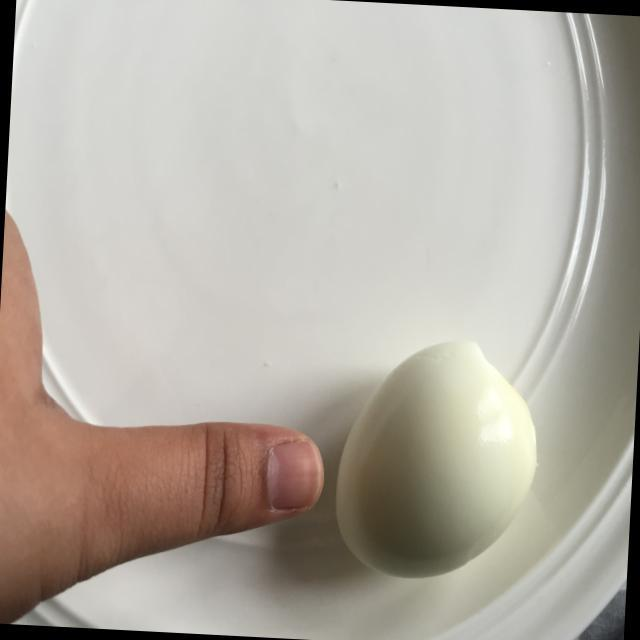Egg: (319, 322, 554, 600)
Finger: (152, 414, 335, 558)
